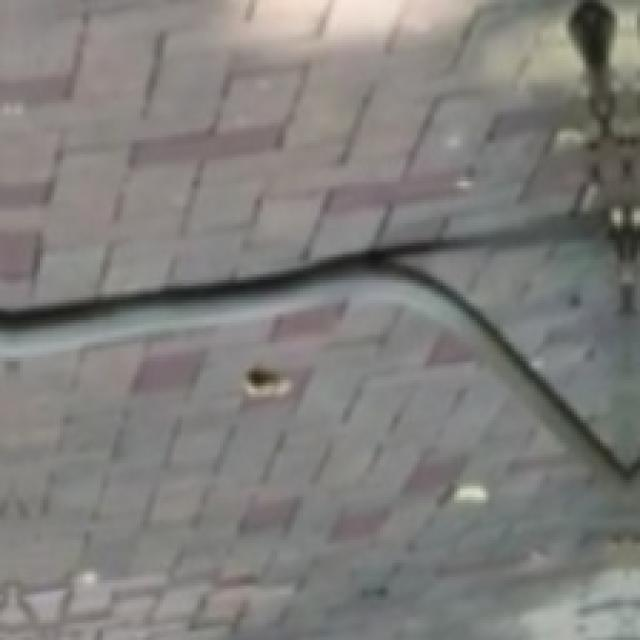king cobra: (0, 0, 637, 474)
